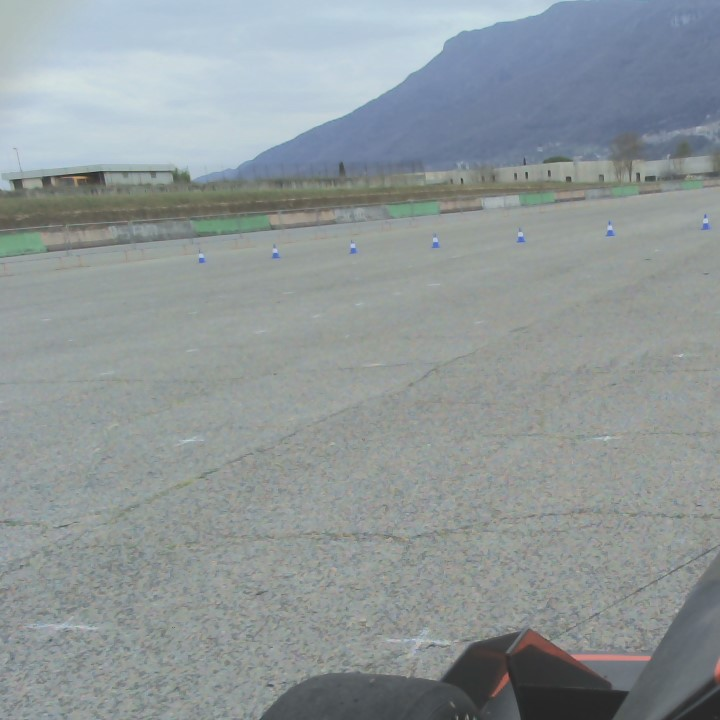cone: (515, 231, 525, 244), (272, 243, 280, 259), (605, 221, 613, 237), (348, 238, 355, 255), (702, 216, 709, 230), (196, 251, 203, 264), (430, 235, 437, 248)
